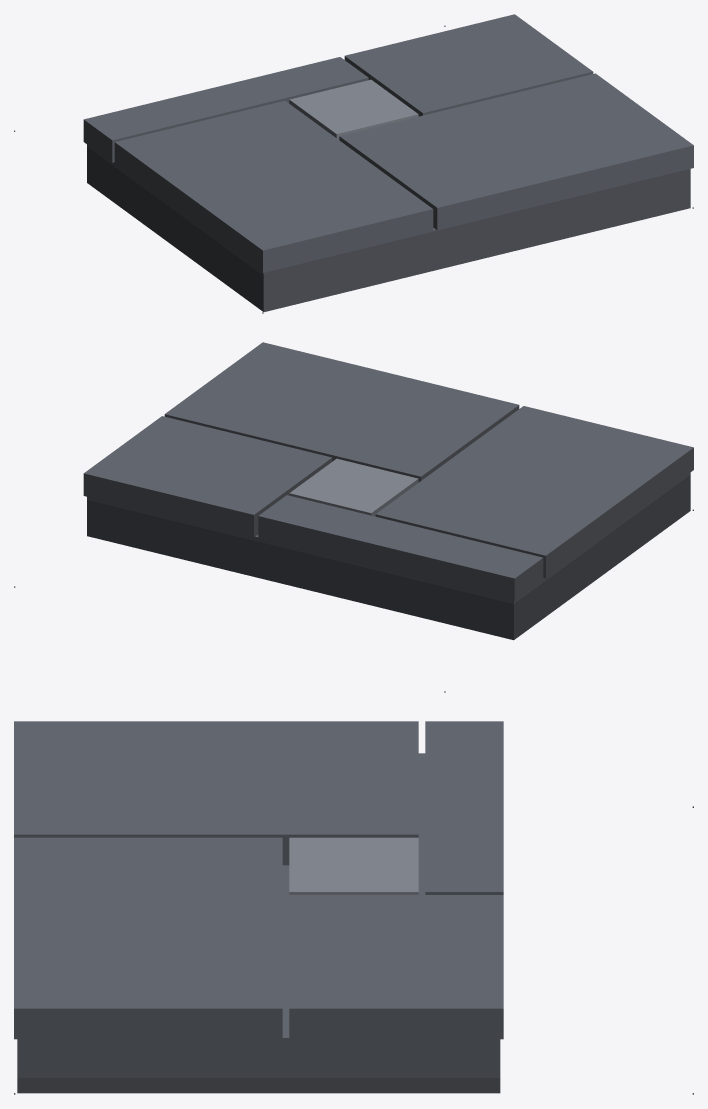
File: floor_metal_tee.glb
3 renders of one model, top to bottom at view 1: azimuth 30°, elevation 25°; view 2: azimuth 150°, elevation 25°; view 3: azimuth 270°, elevation 25°, orthographic. The views are drawn at different scales.
Bounding box in the file's own units: 1 × 0.14 × 1.
1 material, 1 textured.
